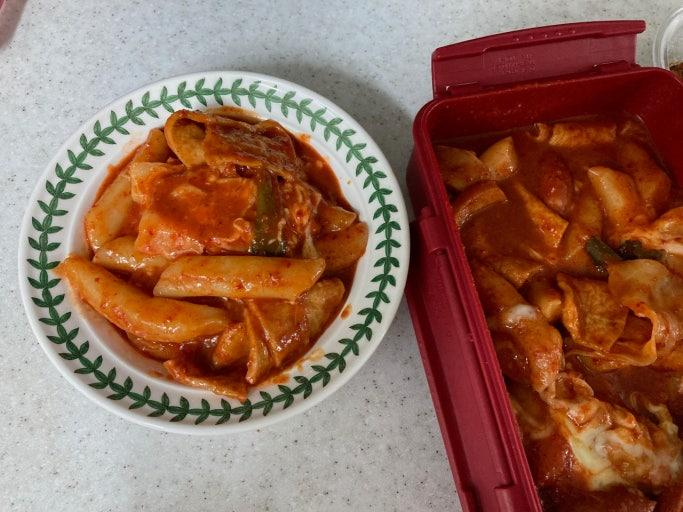Lunch Box: (19, 71, 409, 433), (406, 22, 682, 511)
